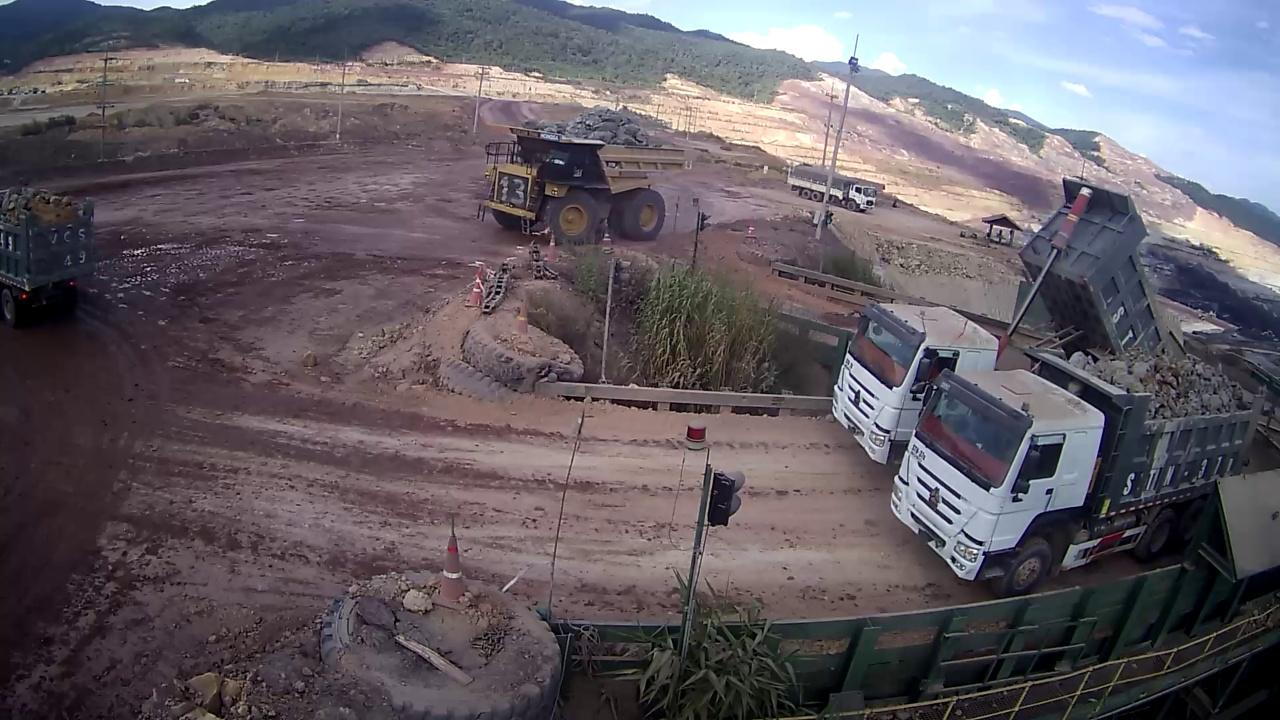front_number: (493, 170, 534, 212)
full_load: (550, 102, 668, 144)
mining_truck: (475, 96, 704, 246)
tail_number: (679, 157, 698, 171)
truck_size: (604, 157, 623, 171)
